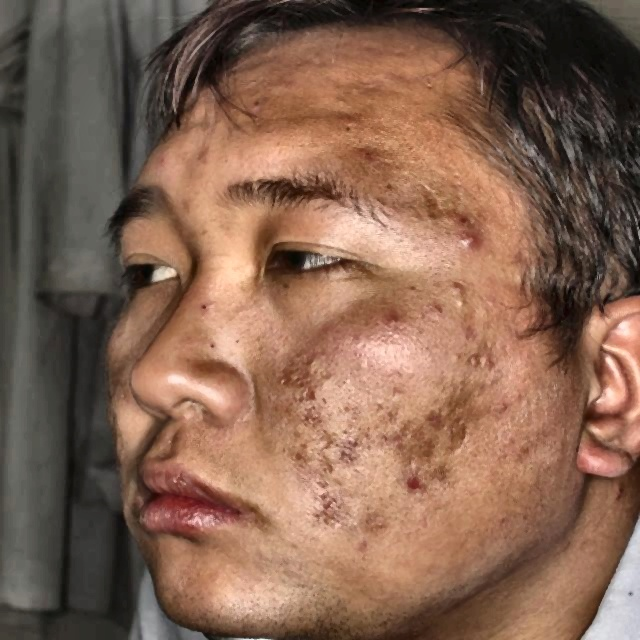pustule: (435, 272, 481, 312), (372, 418, 421, 455), (288, 432, 329, 468), (451, 221, 494, 255), (311, 489, 347, 526), (400, 462, 430, 505), (381, 309, 416, 341), (306, 386, 342, 416), (352, 136, 385, 164)
